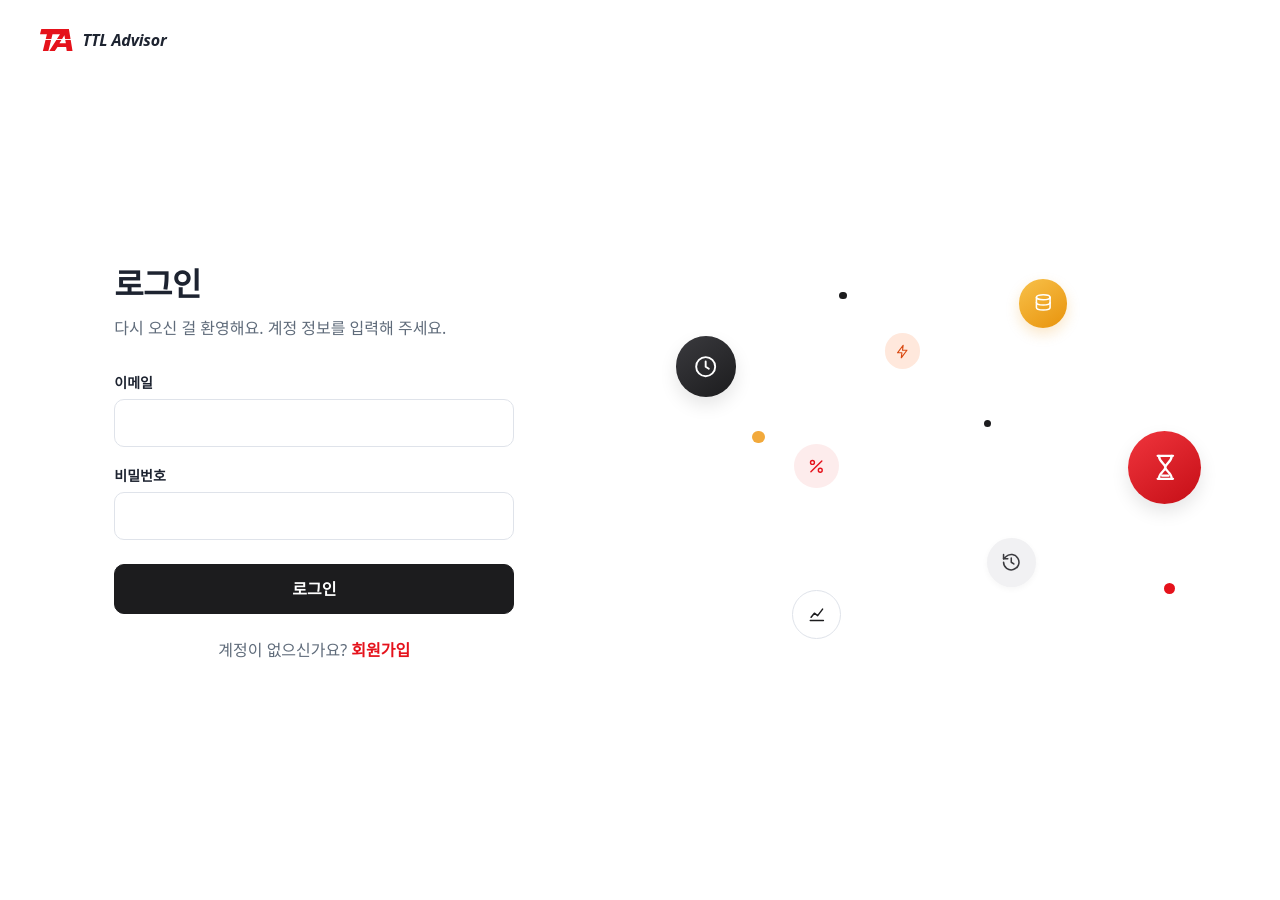
Test: 로그인 › 실패하면 서버 메시지를 보여 주고 로그인 화면에 머문다
The width and height of the screenshot is (1280, 900).
Type "dev@example.com" into the field labelled "이메일".
click(314, 422); type("dev@example.com")  # box [114,398,514,446]
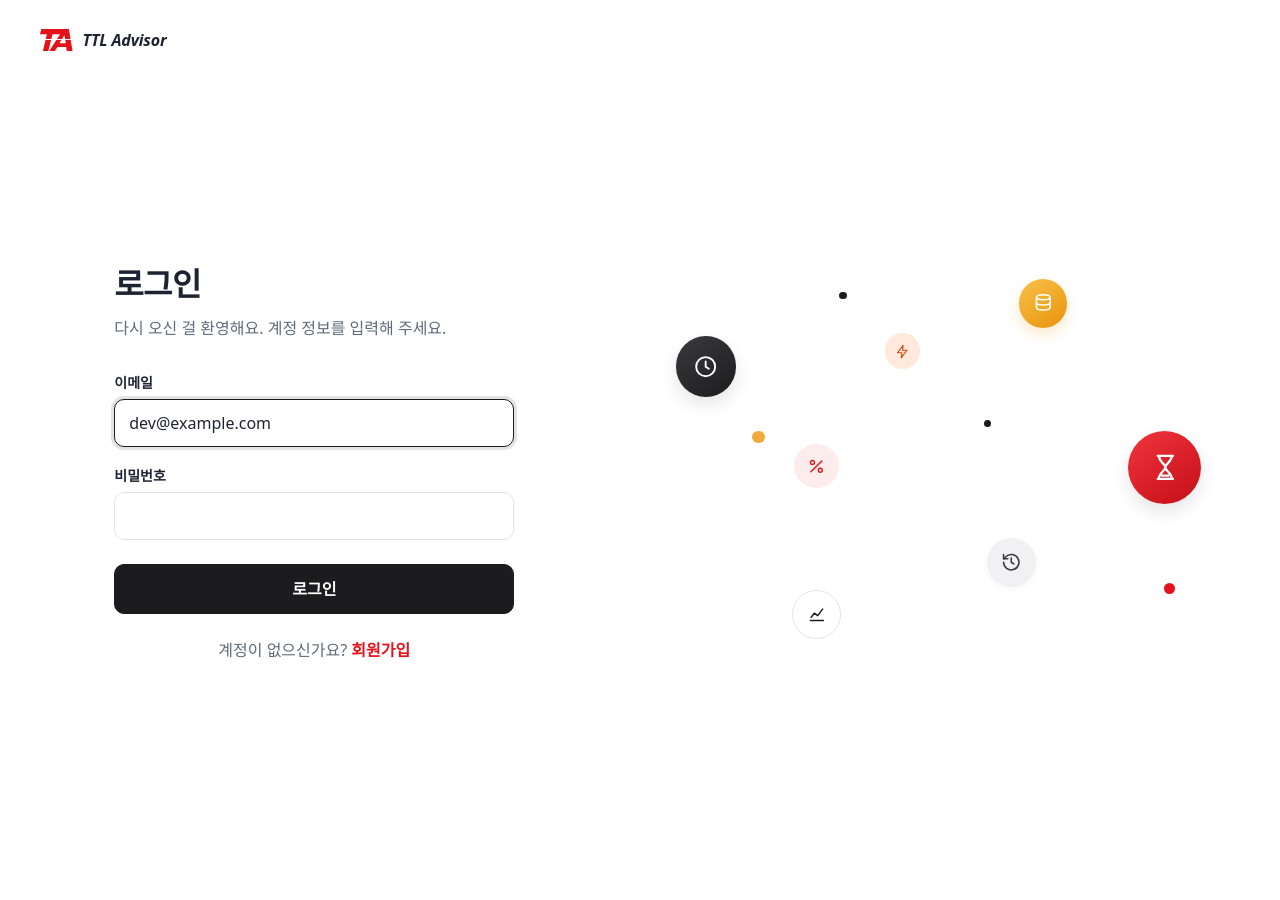
Type "wrong-pass" into the password field labelled "비밀번호".
click(314, 516); type("wrong-pass")  # box [114,492,514,540]
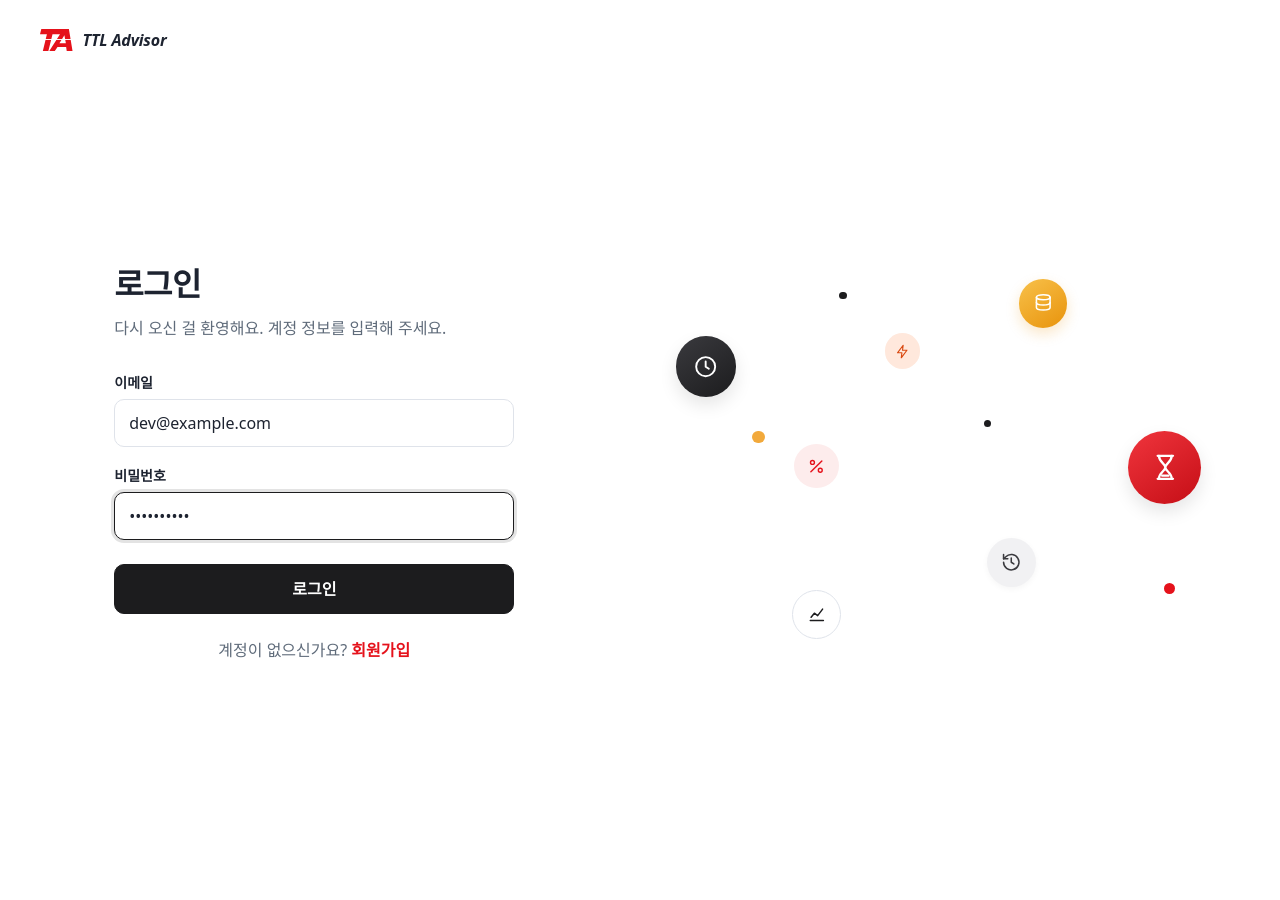
Click the button "로그인".
click(314, 588)  # box [114,564,514,614]
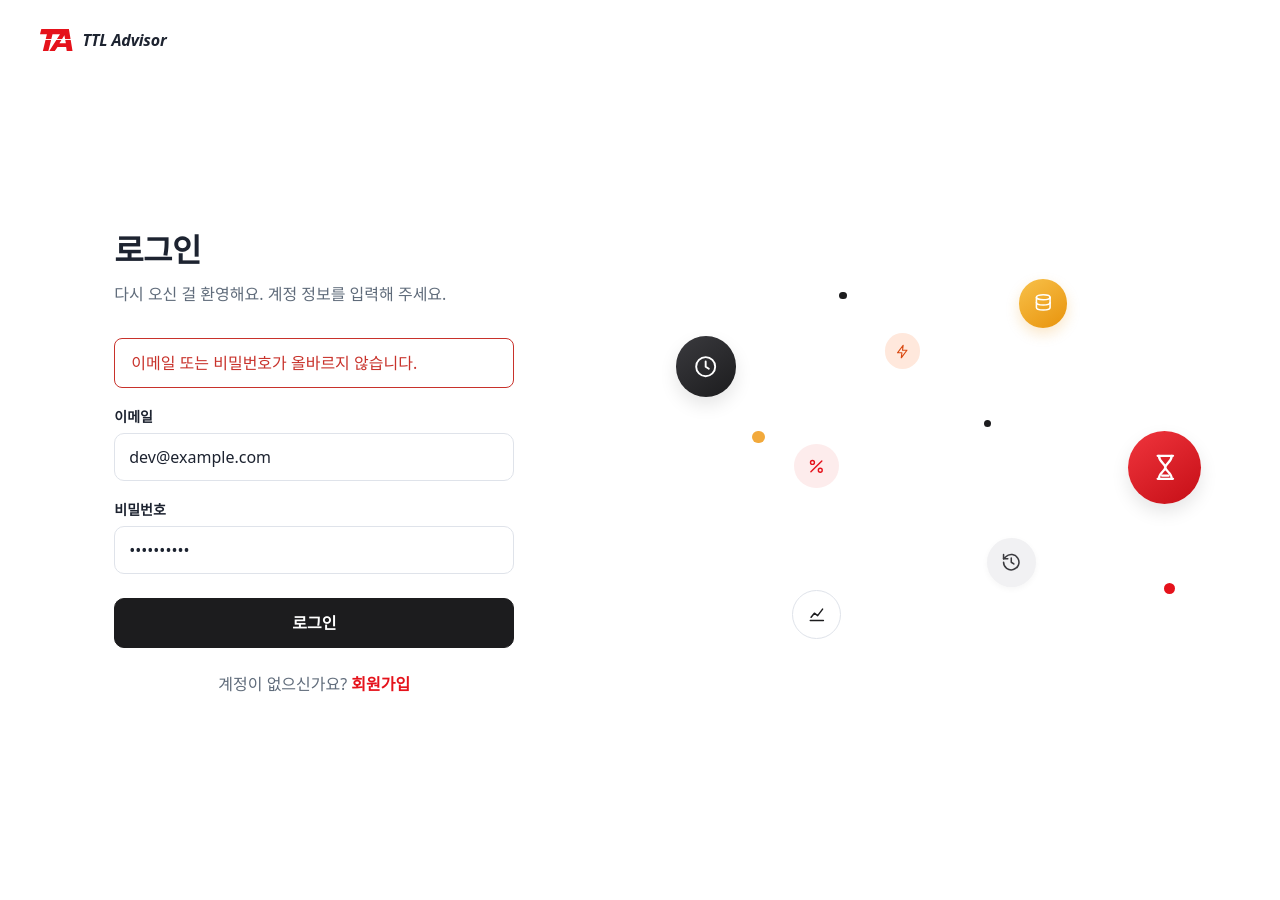
Now the message reads "이메일 또는 비밀번호가 올바르지 않습니다.", box [131,352,417,374]
